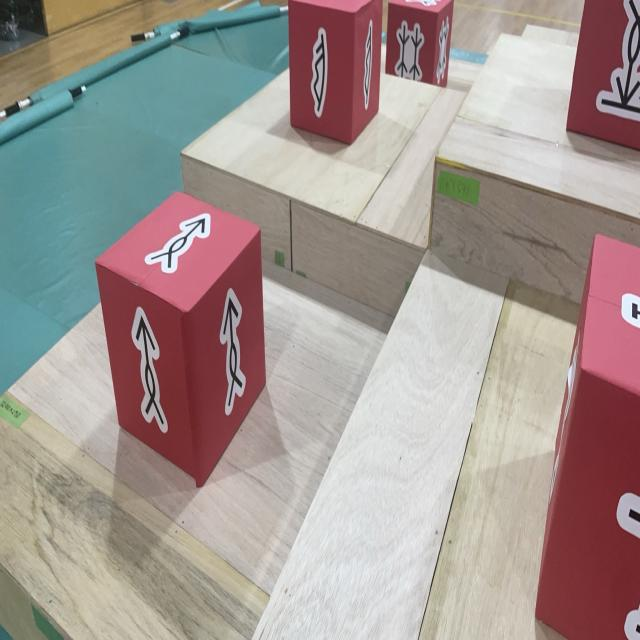11: (311, 27, 329, 118), (363, 20, 372, 110)
12: (131, 306, 168, 434), (144, 212, 211, 275), (220, 288, 247, 416)
6: (395, 20, 424, 81), (436, 16, 450, 84)
7: (595, 0, 640, 121)
9: (616, 492, 640, 640), (620, 293, 640, 329)
fighter: (95, 192, 267, 489), (534, 233, 640, 640), (288, 0, 383, 145), (566, 0, 640, 151), (386, 0, 454, 88)
